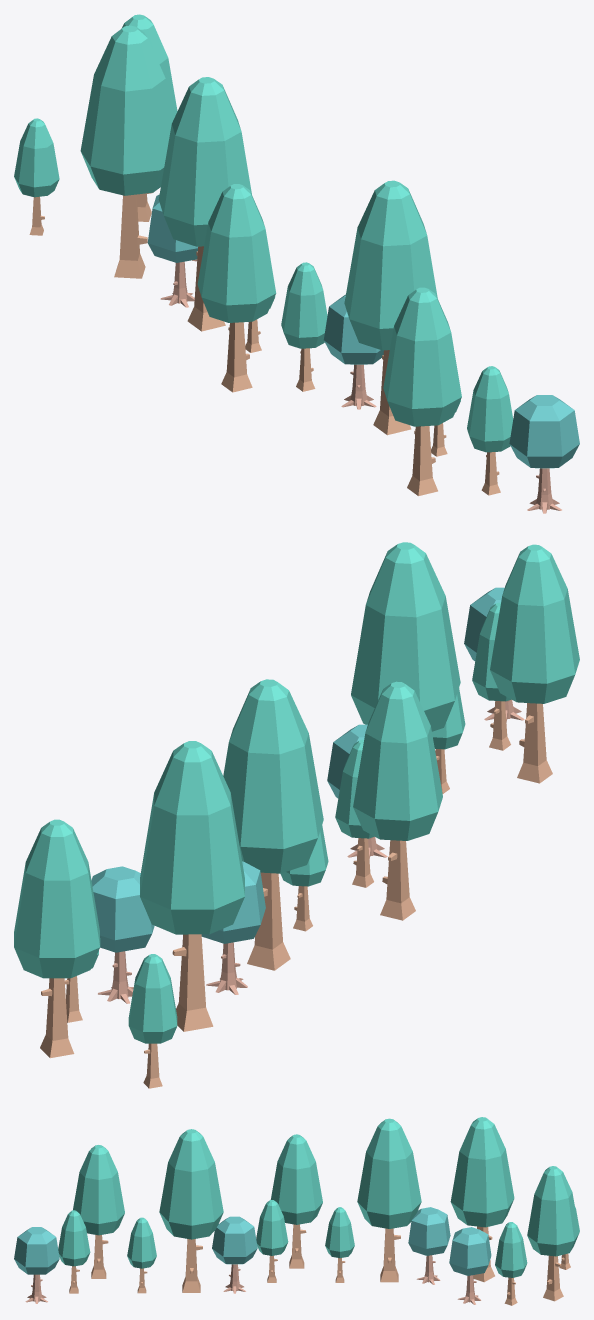
File: trees.glb
3 views of the same model, one above another, from view 1: azimuth 30°, elevation 25°; view 2: azimuth 150°, elevation 25°; view 3: azimuth 270°, elevation 25° (orthographic). The views are drawn at different scales.
Visible parts, largest first — view 1: tree_cone.021, tree_cone.017, tree_cone.013, tree_cone.001, tree_cone.015, tree_oak_dark.001, tree_cone.014, tree_cone, tree_cone.020, tree_oak_dark.002, tree_oak_dark.004, tree_cone.019; view 2: tree_cone.021, tree_cone.017, tree_cone.013, tree_cone.001, tree_cone.015, tree_cone.019, tree_oak_dark.003, tree_cone.020, tree_oak_dark.004, tree_cone, tree_cone.014, tree_cone.016 (+3 smaller); view 3: tree_cone.017, tree_cone.013, tree_cone.021, tree_cone.019, tree_cone.015, tree_cone.001, tree_oak_dark.001, tree_oak_dark.002, tree_oak_dark.003, tree_oak_dark.004, tree_cone.018, tree_cone (+3 smaller).
Part boxes in pixels (x1,y1,x2,y2): tree_cone.021: [80, 25, 172, 278]; tree_cone.017: [158, 77, 251, 331]; tree_cone.013: [344, 180, 437, 435]; tree_cone.001: [383, 287, 461, 496]; tree_cone.015: [197, 184, 276, 392]; tree_oak_dark.001: [509, 395, 579, 513]; tree_cone.014: [281, 262, 327, 391]; tree_cone: [467, 366, 513, 495]; tree_cone.020: [14, 118, 59, 235]; tree_oak_dark.002: [323, 294, 383, 409]; tree_oak_dark.004: [147, 194, 197, 307]; tree_cone.019: [121, 14, 177, 221]; tree_cone.021: [140, 741, 244, 1031]; tree_cone.017: [223, 679, 323, 970]; tree_cone.013: [351, 542, 460, 731]; tree_cone.001: [490, 544, 579, 783]; tree_cone.015: [353, 681, 442, 920]; tree_cone.019: [14, 819, 100, 1058]; tree_oak_dark.003: [91, 866, 154, 1003]; tree_cone.020: [128, 954, 177, 1088]; tree_oak_dark.004: [201, 861, 265, 994]; tree_cone: [472, 602, 511, 750]; tree_cone.014: [335, 739, 374, 887]; tree_cone.016: [280, 825, 328, 931]; tree_cone.017: [357, 1118, 421, 1282]; tree_cone.013: [159, 1129, 223, 1292]; tree_cone.021: [450, 1117, 514, 1282]; tree_cone.019: [527, 1166, 579, 1301]; tree_cone.015: [270, 1134, 322, 1268]; tree_cone.001: [73, 1145, 124, 1278]; tree_oak_dark.001: [14, 1227, 59, 1303]; tree_oak_dark.002: [212, 1216, 257, 1293]; tree_oak_dark.003: [449, 1227, 491, 1304]; tree_oak_dark.004: [408, 1207, 450, 1284]; tree_cone.018: [495, 1222, 527, 1305]; tree_cone: [58, 1210, 90, 1293].
Size of the model in its own units: 21.33 by 28.12 by 91.49.
